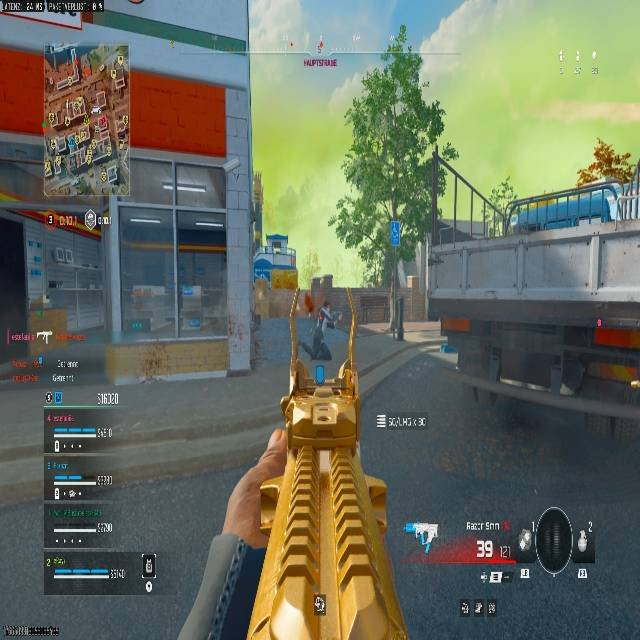player: (305, 295, 340, 375), (318, 302, 334, 330)
